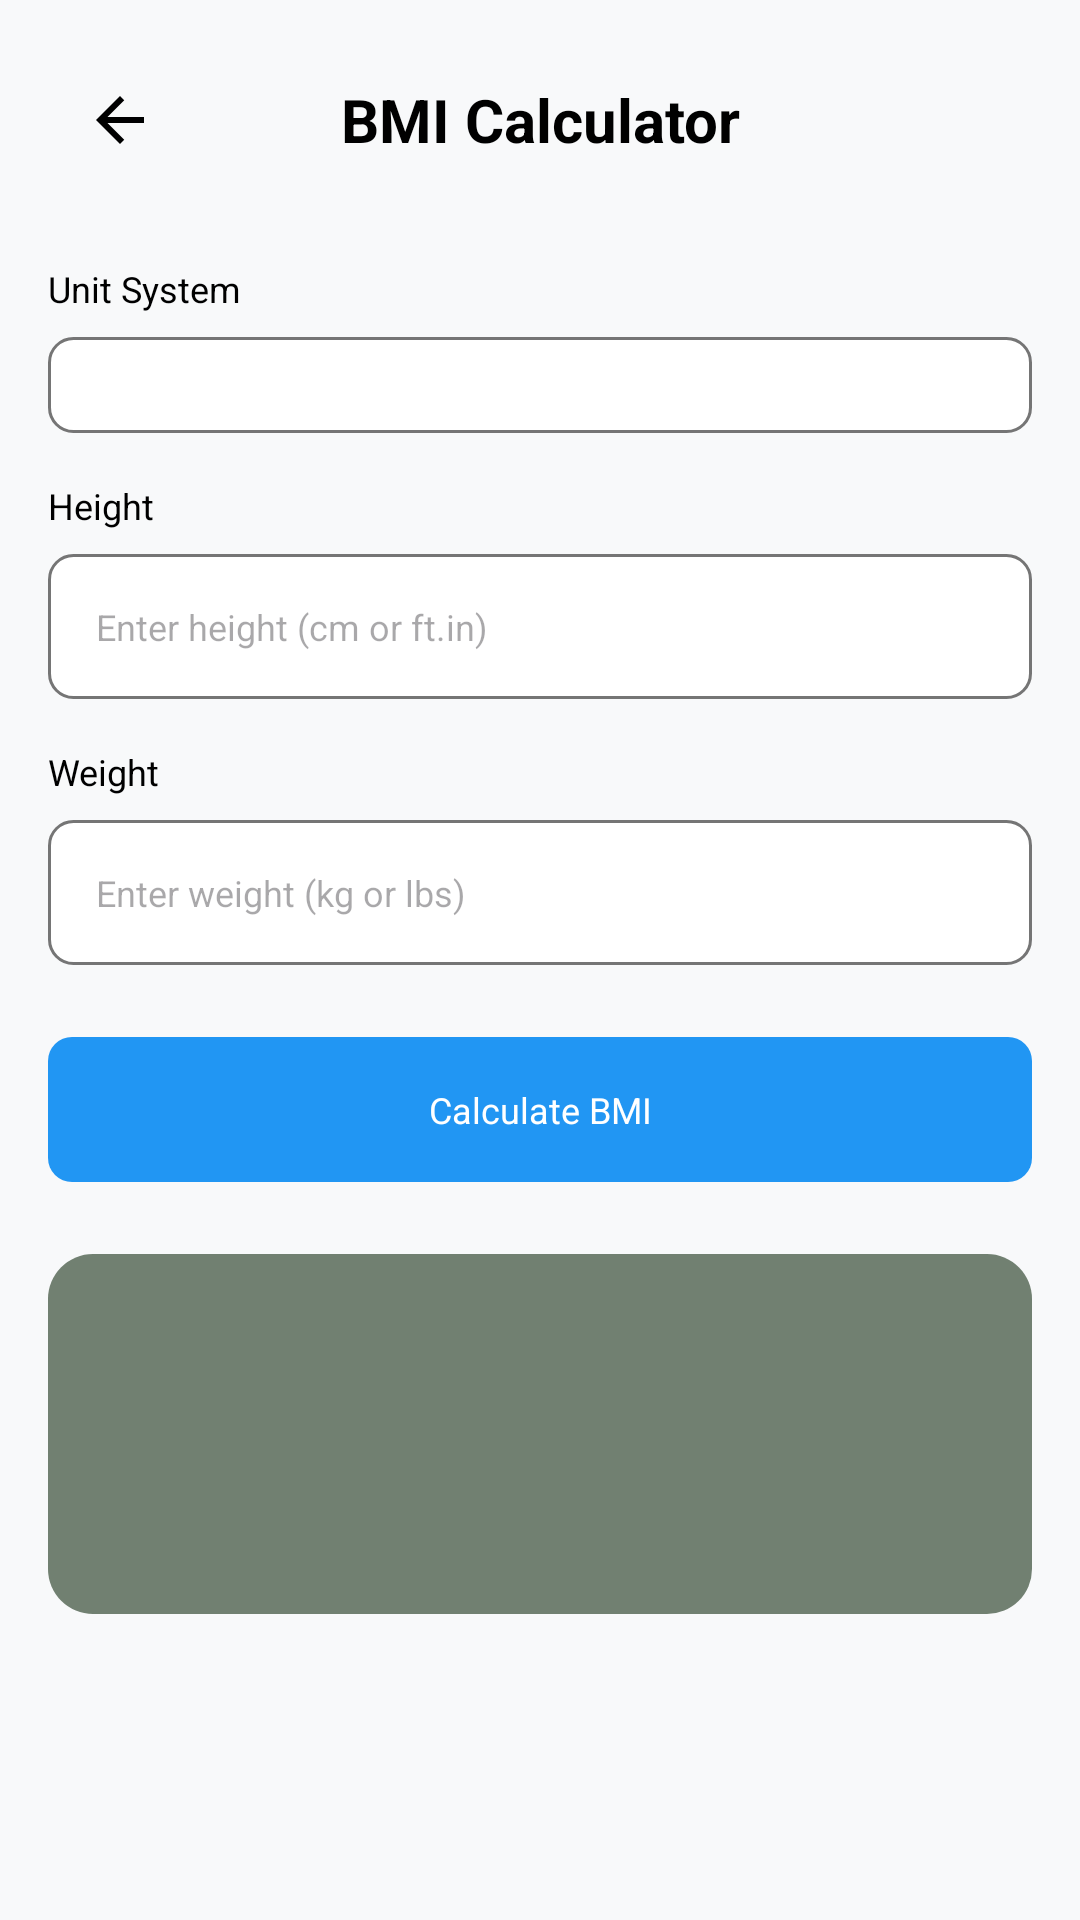

Where to tap for icons on this 1080px×1920px app screen, as point (x, y):
Back: point (120, 120)
